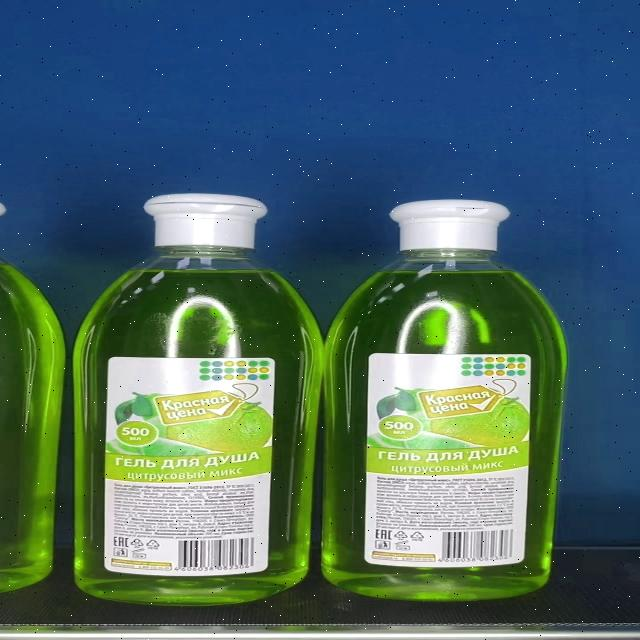Bottle: (74, 194, 326, 607), (322, 199, 567, 602)
Cap: (148, 194, 273, 246), (390, 200, 514, 252)
